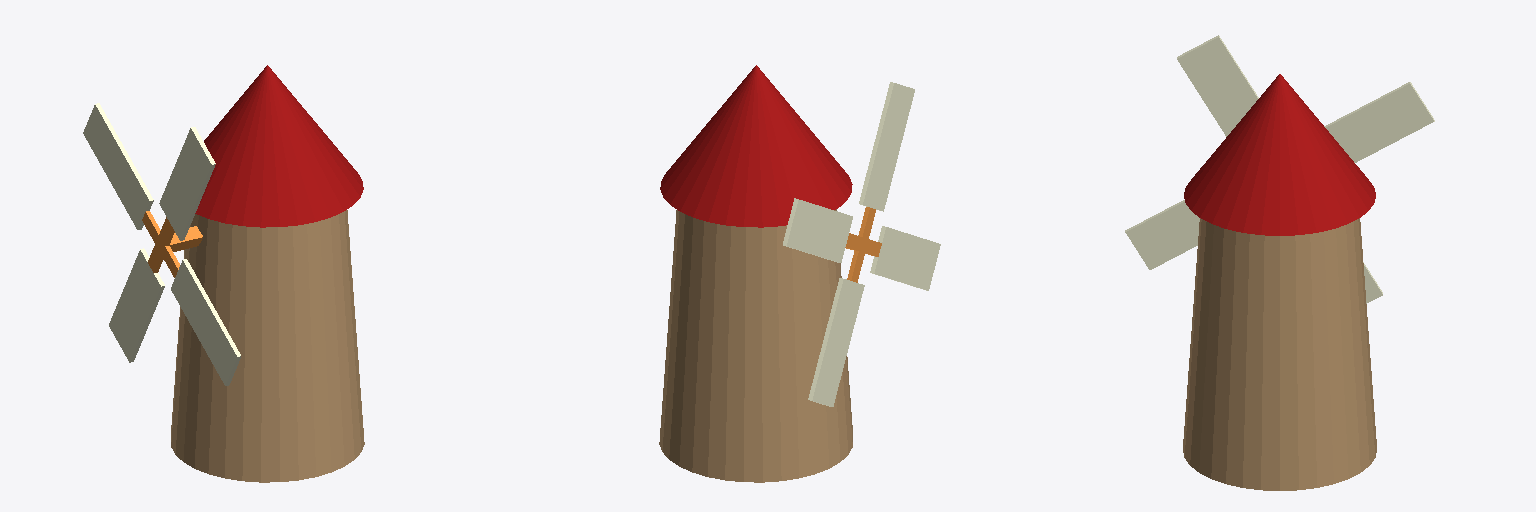
File: BMill.obj
3 renders of one model, left to right at view 1: azimuth 30°, elevation 25°; view 2: azimuth 150°, elevation 25°; view 3: azimuth 270°, elevation 25°, orthographic.
Parts seen in each view (by area): view 1: BMill; view 2: BMill; view 3: BMill.
Part boxes in pixels (bbox=[...]): BMill: bbox=[83, 65, 364, 482]; BMill: bbox=[659, 65, 940, 482]; BMill: bbox=[1125, 35, 1434, 490].
Bounding box in the file's own units: 4.55 × 8.55 × 6.35.